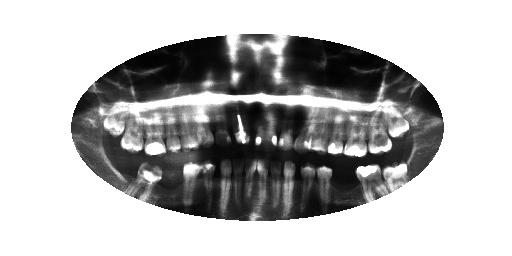Cavity: (267, 158, 284, 214), (244, 157, 256, 209)
